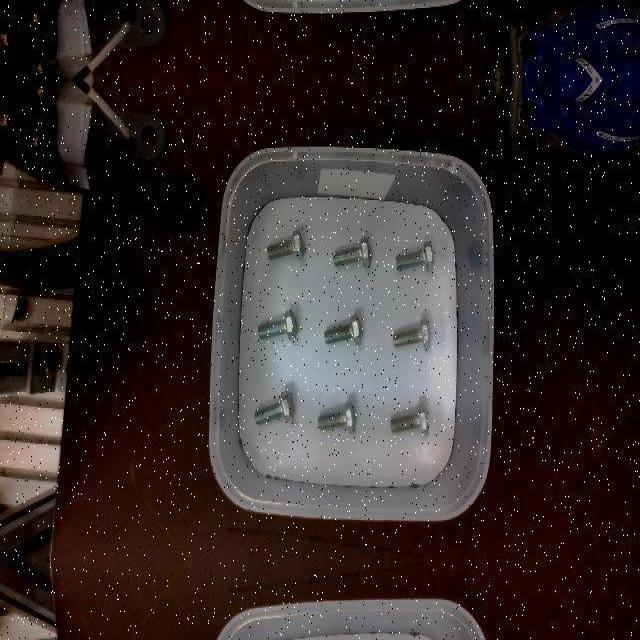screw: (255, 389, 295, 423), (258, 307, 297, 341), (323, 314, 362, 346), (393, 318, 430, 350), (319, 400, 356, 432), (395, 241, 434, 271), (389, 402, 428, 432), (333, 237, 371, 267), (267, 230, 304, 260)
